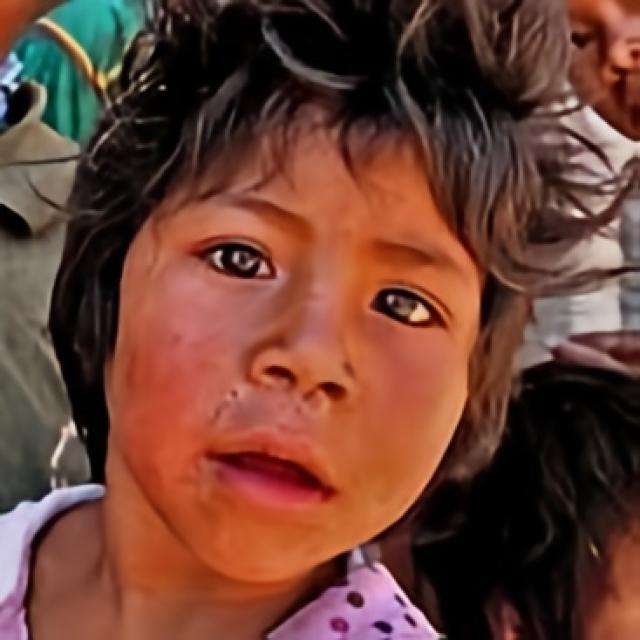fear: (98, 89, 484, 585)
